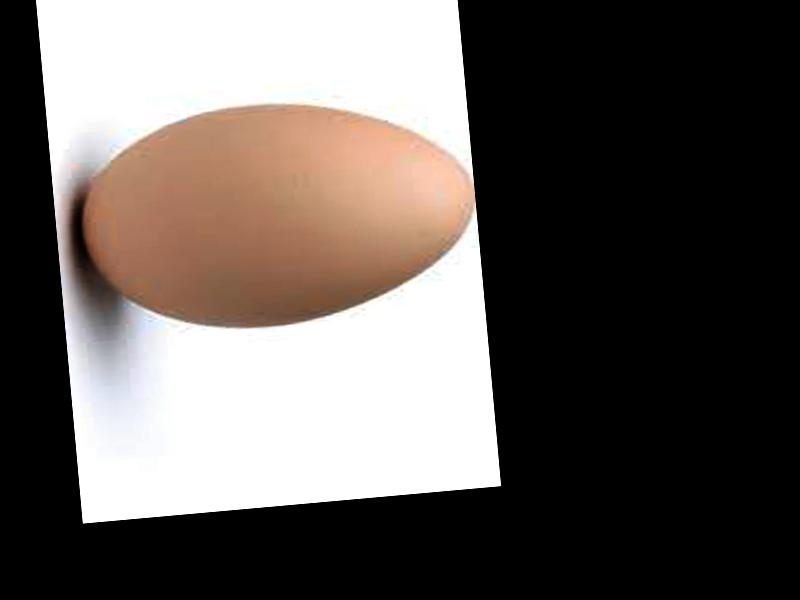Eggs: (66, 86, 482, 342)
